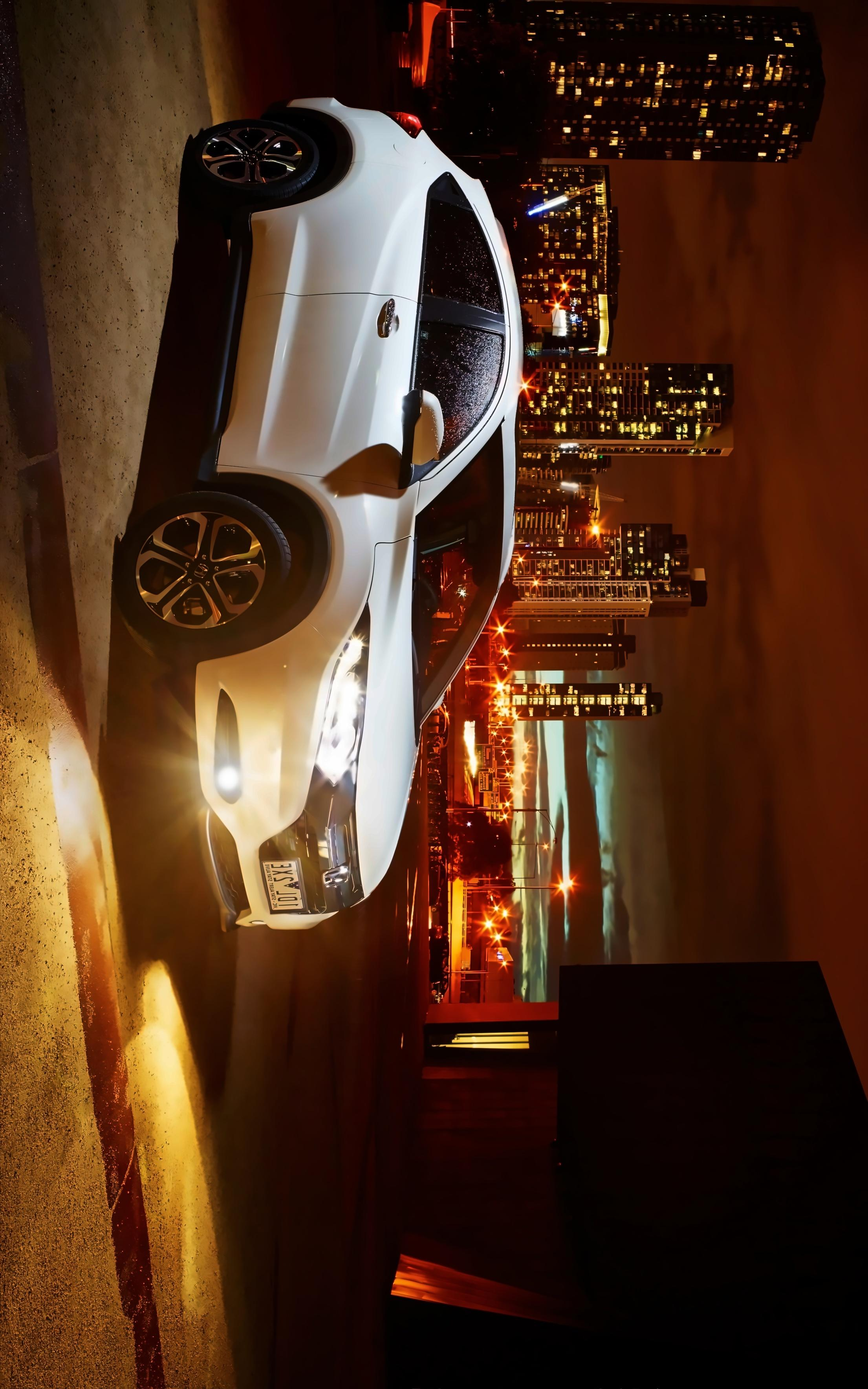Car hood: (348, 531, 430, 908)
Driver-s door - -F-R-: (206, 289, 519, 480)
Fender - -F-R-: (195, 452, 439, 651)
Fender - -R-R-: (240, 132, 456, 214)
Front bumper: (179, 627, 323, 945)
Headlight - -R-: (309, 588, 374, 799)
Passenger-s door - -R-R-: (226, 150, 519, 296)
Rear bumper: (247, 83, 364, 134)
Rear light - -R-: (377, 89, 437, 151)
Side bumper - -R-: (181, 193, 267, 505)
Side mirror - -R-: (395, 373, 458, 480)
